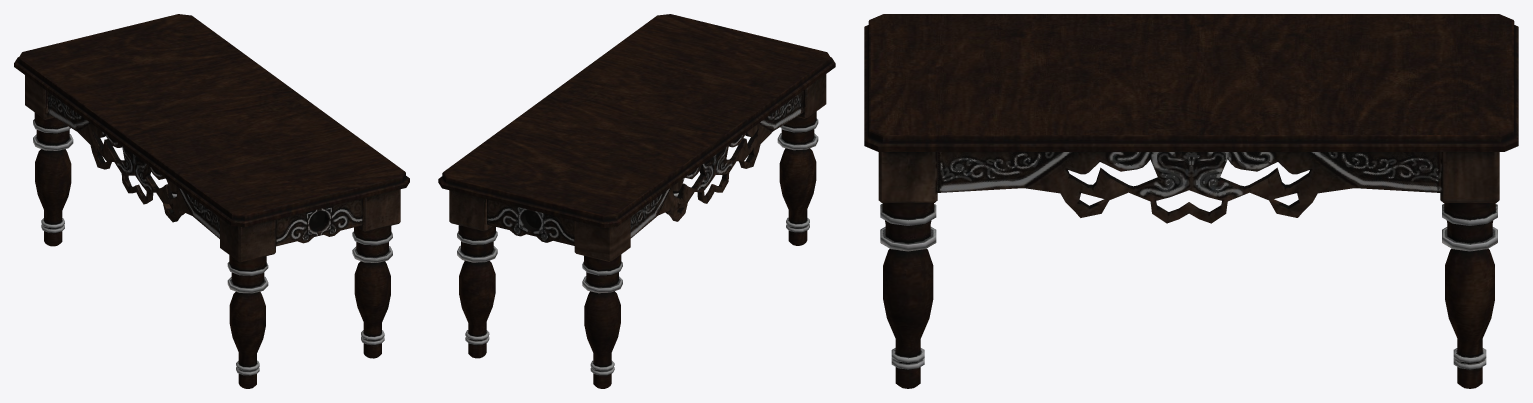
File: coffee-table.glb
3 views of the same model, side by side, from view 1: azimuth 30°, elevation 25°; view 2: azimuth 150°, elevation 25°; view 3: azimuth 270°, elevation 25° (orthographic). The views are drawn at different scales.
Parts seen in each view (by area): view 1: g Coffee_Table; view 2: g Coffee_Table; view 3: g Coffee_Table.
Boxes of the visible parts, x1,y1,x2,y2 form: g Coffee_Table: [14, 14, 409, 388]; g Coffee_Table: [438, 14, 835, 388]; g Coffee_Table: [864, 14, 1518, 388].
Size of the model in its own units: 0.2594 by 0.2561 by 0.57.
Materials: 1 (1 with a texture image).
